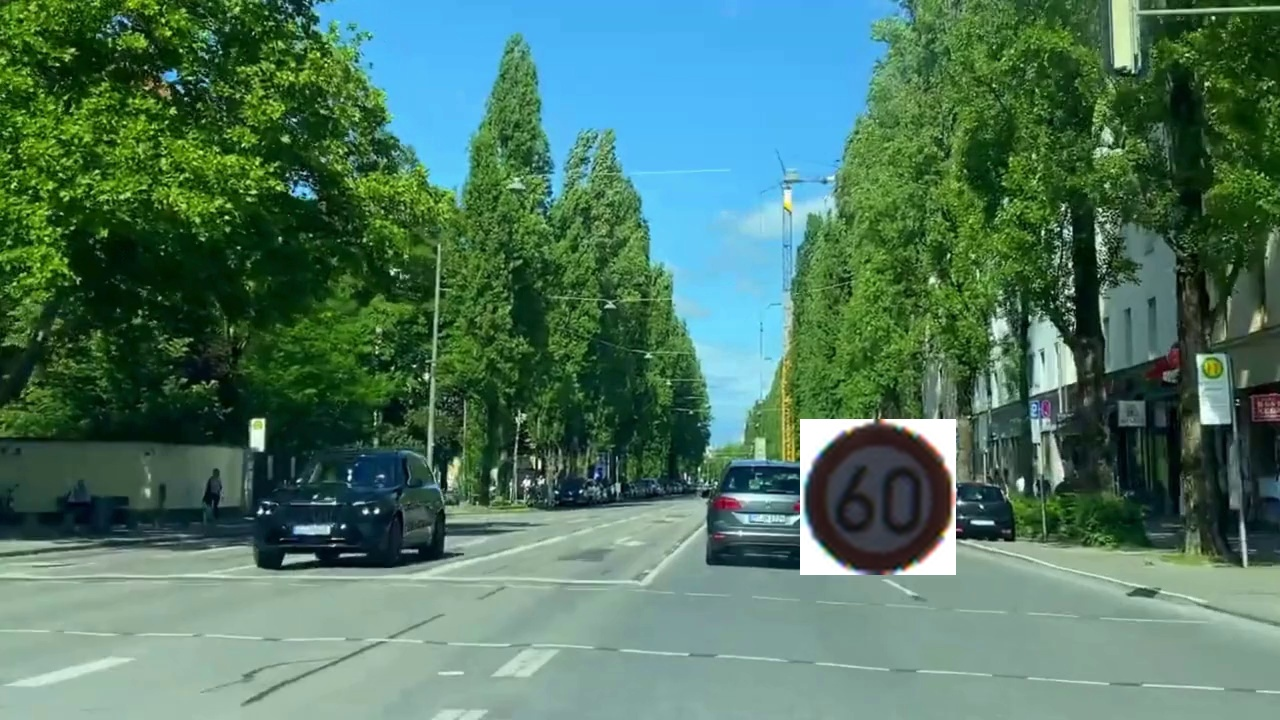Speed 60: (800, 419, 956, 575)
